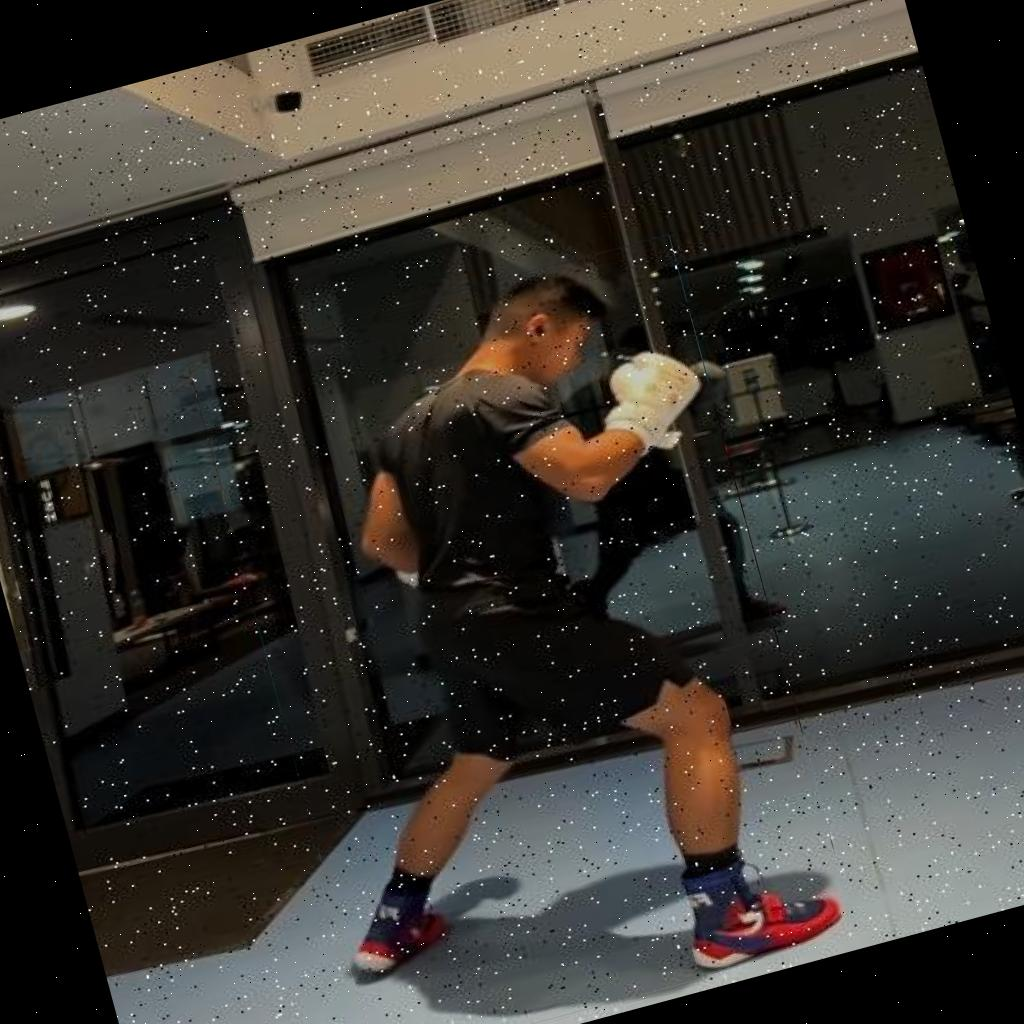no punch: (188, 235, 856, 1024)
